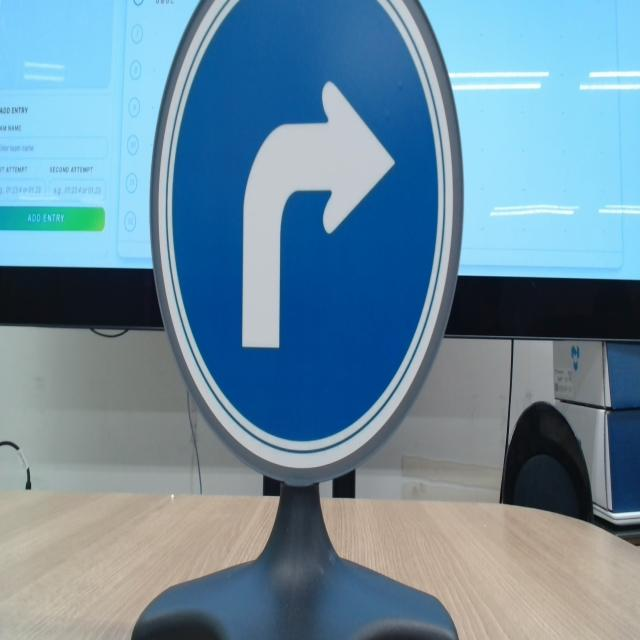right_dierection: (141, 0, 468, 493)
